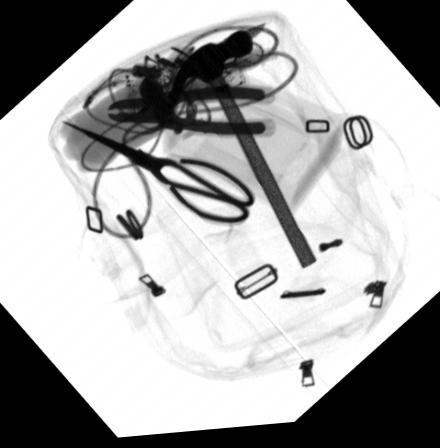Hammer: (166, 34, 316, 274)
Knife: (155, 27, 267, 105)
Pliers: (104, 89, 276, 141)
Scissors: (60, 120, 255, 231)
